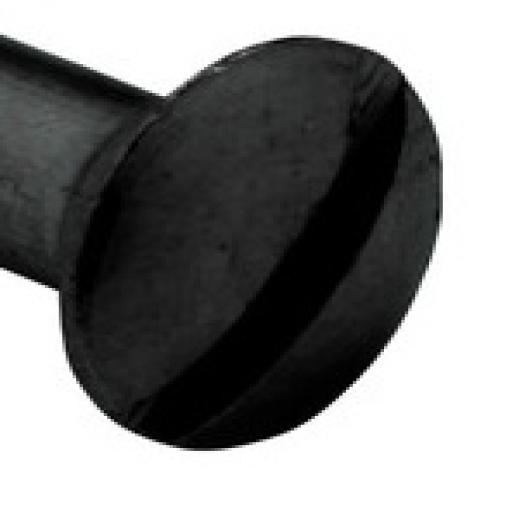Slotted: (36, 29, 442, 467)
